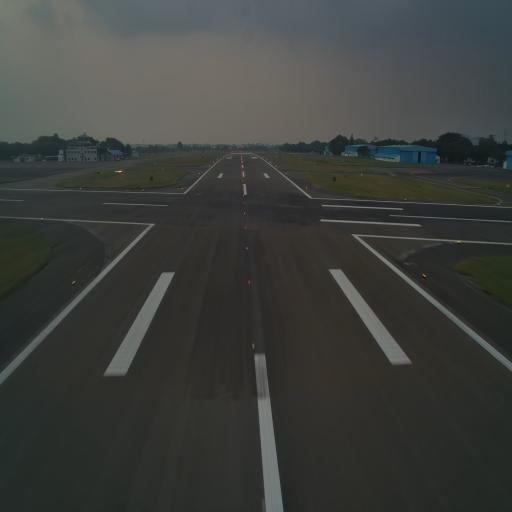on: (421, 270, 427, 282), (251, 340, 255, 352), (247, 278, 252, 286), (245, 243, 249, 252), (72, 278, 76, 285), (243, 210, 247, 216), (244, 225, 247, 230)
